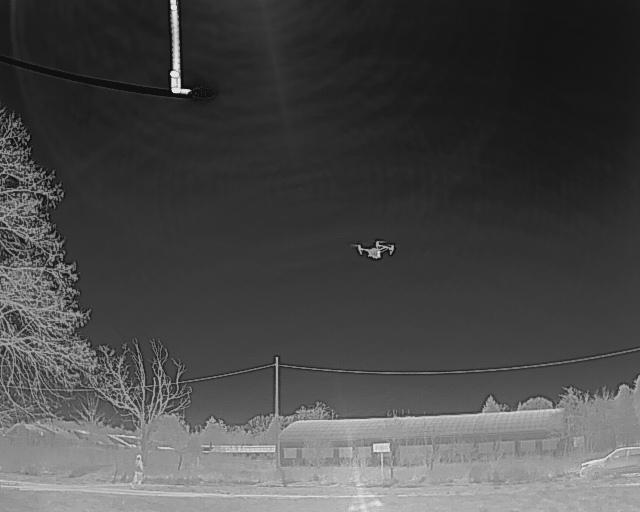drone: (345, 234, 405, 265)
